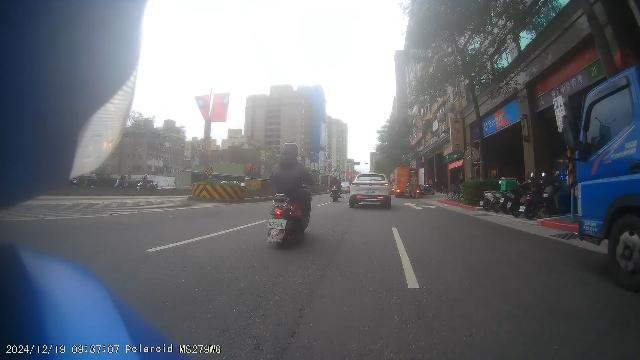plate: (268, 219, 287, 229)
